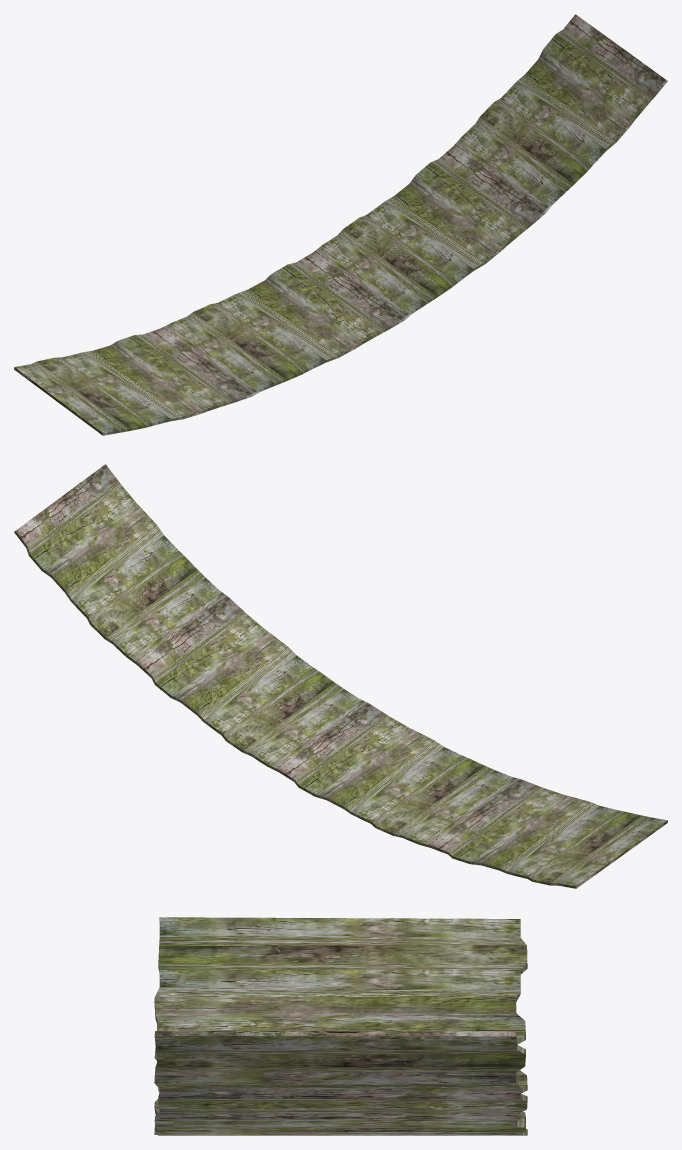
Rendered from ramp-005.fbx.
3 views of the same model, one above another, from view 1: azimuth 30°, elevation 25°; view 2: azimuth 150°, elevation 25°; view 3: azimuth 270°, elevation 25° (orthographic). The views are drawn at different scales.
Parts seen in each view (by area): view 1: Ramp_005; view 2: Ramp_005; view 3: Ramp_005.
Part boxes in pixels (bbox=[...]): Ramp_005: bbox=[14, 14, 667, 435]; Ramp_005: bbox=[14, 464, 667, 888]; Ramp_005: bbox=[154, 917, 527, 1135].
Bounding box in the file's own units: 719 × 271 × 206.
